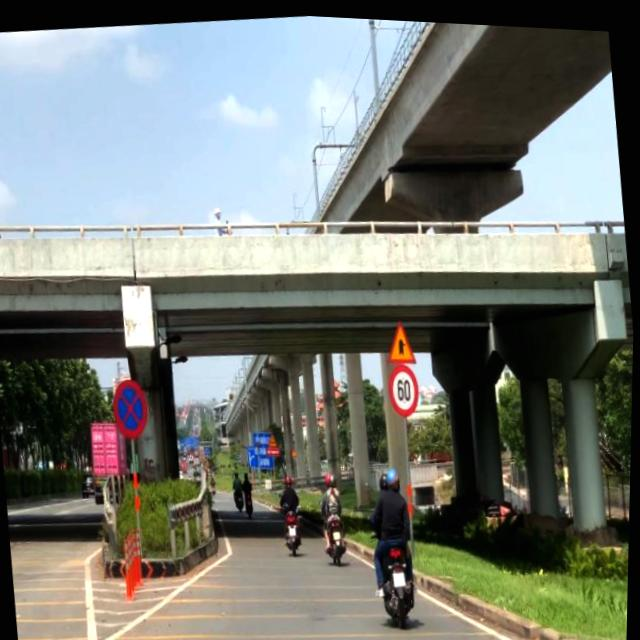Cam dung xe va do xe: (110, 374, 153, 441)
Di cham: (268, 427, 280, 445)
Giao nhau voi duong khong uu tien ben phai: (384, 314, 418, 362)
Toc do toi da cho phep: (387, 356, 423, 414)
